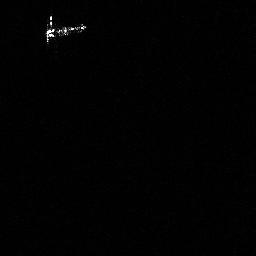ship: (41, 11, 88, 46)
